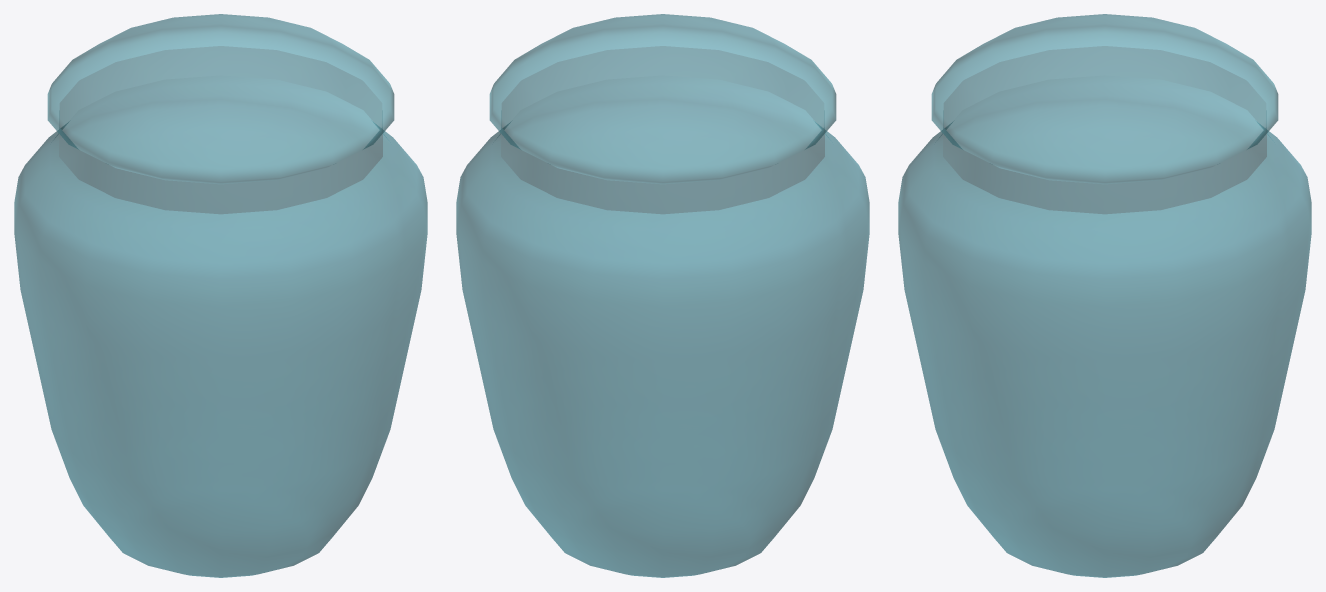
The model's file is OBJ_GhostUrn.fbx.
3 views of the same model, side by side, from view 1: azimuth 30°, elevation 25°; view 2: azimuth 150°, elevation 25°; view 3: azimuth 270°, elevation 25° (orthographic).
Parts seen in each view (by area): view 1: OBJ_GhostUrn; view 2: OBJ_GhostUrn; view 3: OBJ_GhostUrn.
Boxes of the visible parts, bbox=[...] form: OBJ_GhostUrn: bbox=[14, 14, 427, 577]; OBJ_GhostUrn: bbox=[456, 14, 869, 577]; OBJ_GhostUrn: bbox=[898, 14, 1311, 577].
Size of the model in its own units: 44.63 by 58.84 by 43.95.
